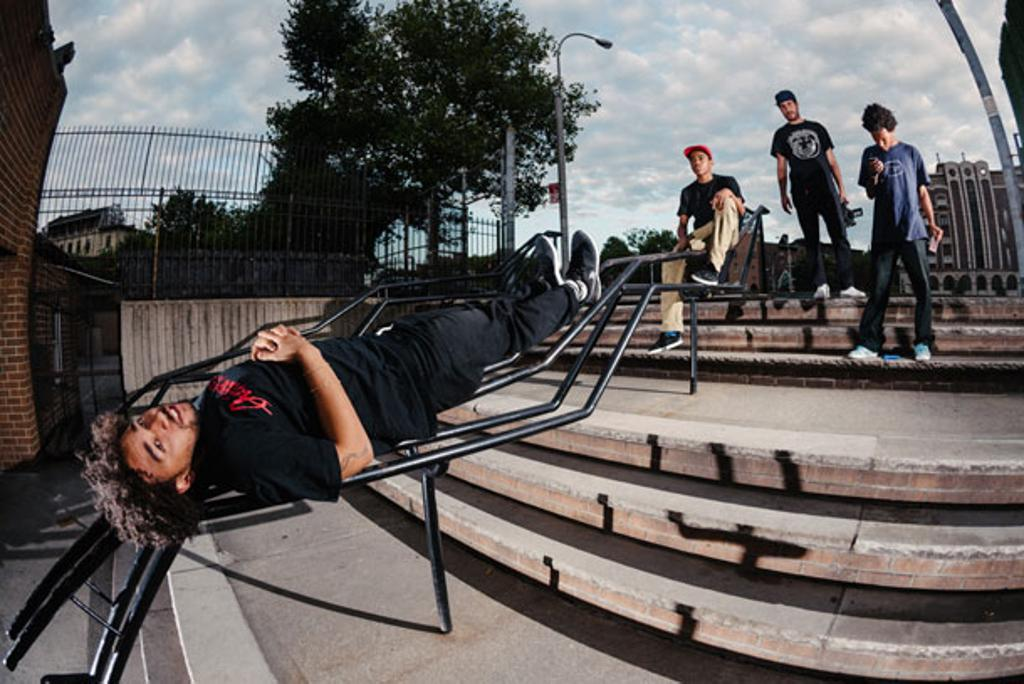face: (117, 402, 200, 484), (689, 151, 707, 174), (871, 128, 889, 151), (780, 100, 797, 118), (549, 186, 559, 201)
